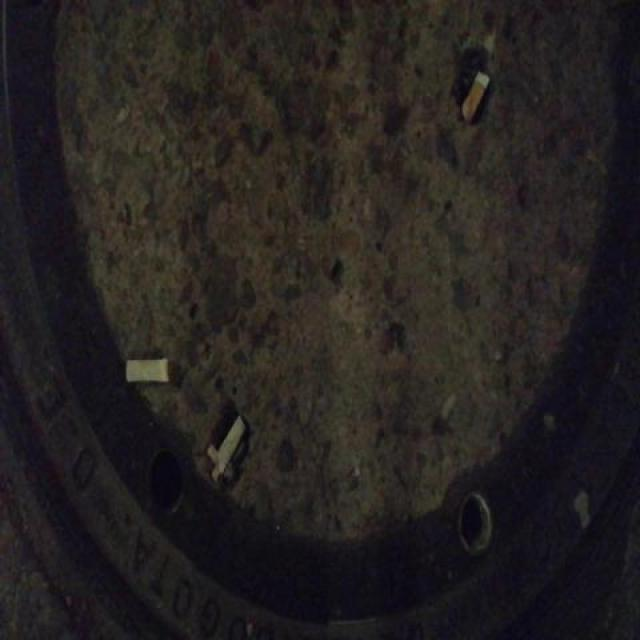non-organic waste: (212, 410, 251, 477), (122, 353, 182, 388), (461, 64, 491, 131)
